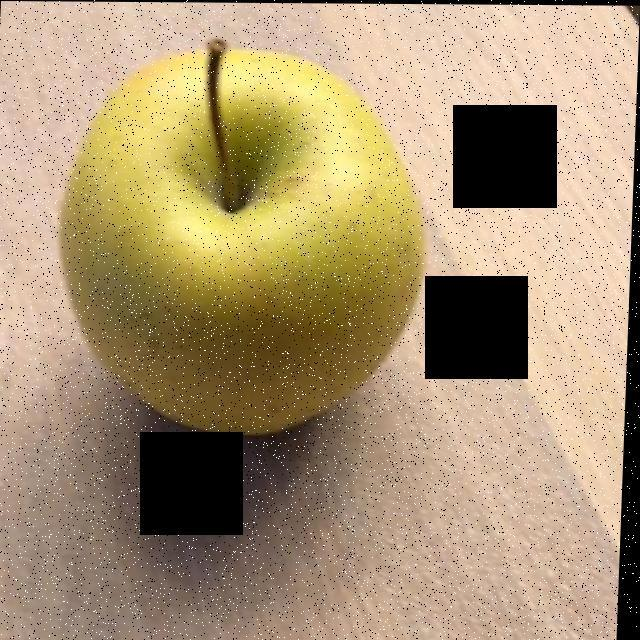apple: (63, 46, 425, 426)
